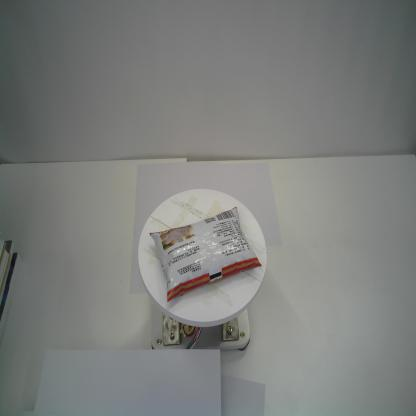Seasoner: (147, 202, 264, 304)
